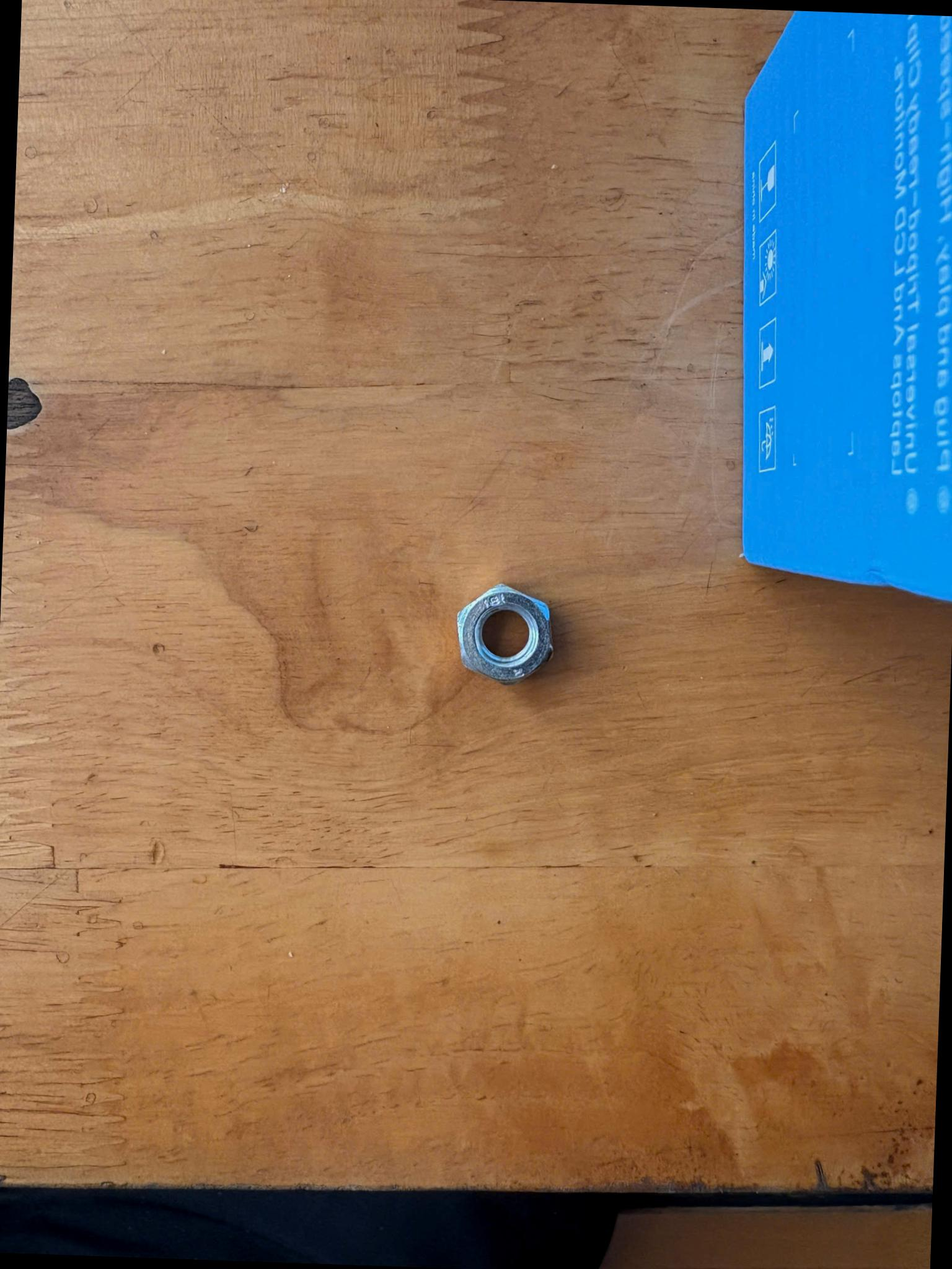nut: (440, 562, 578, 708)
